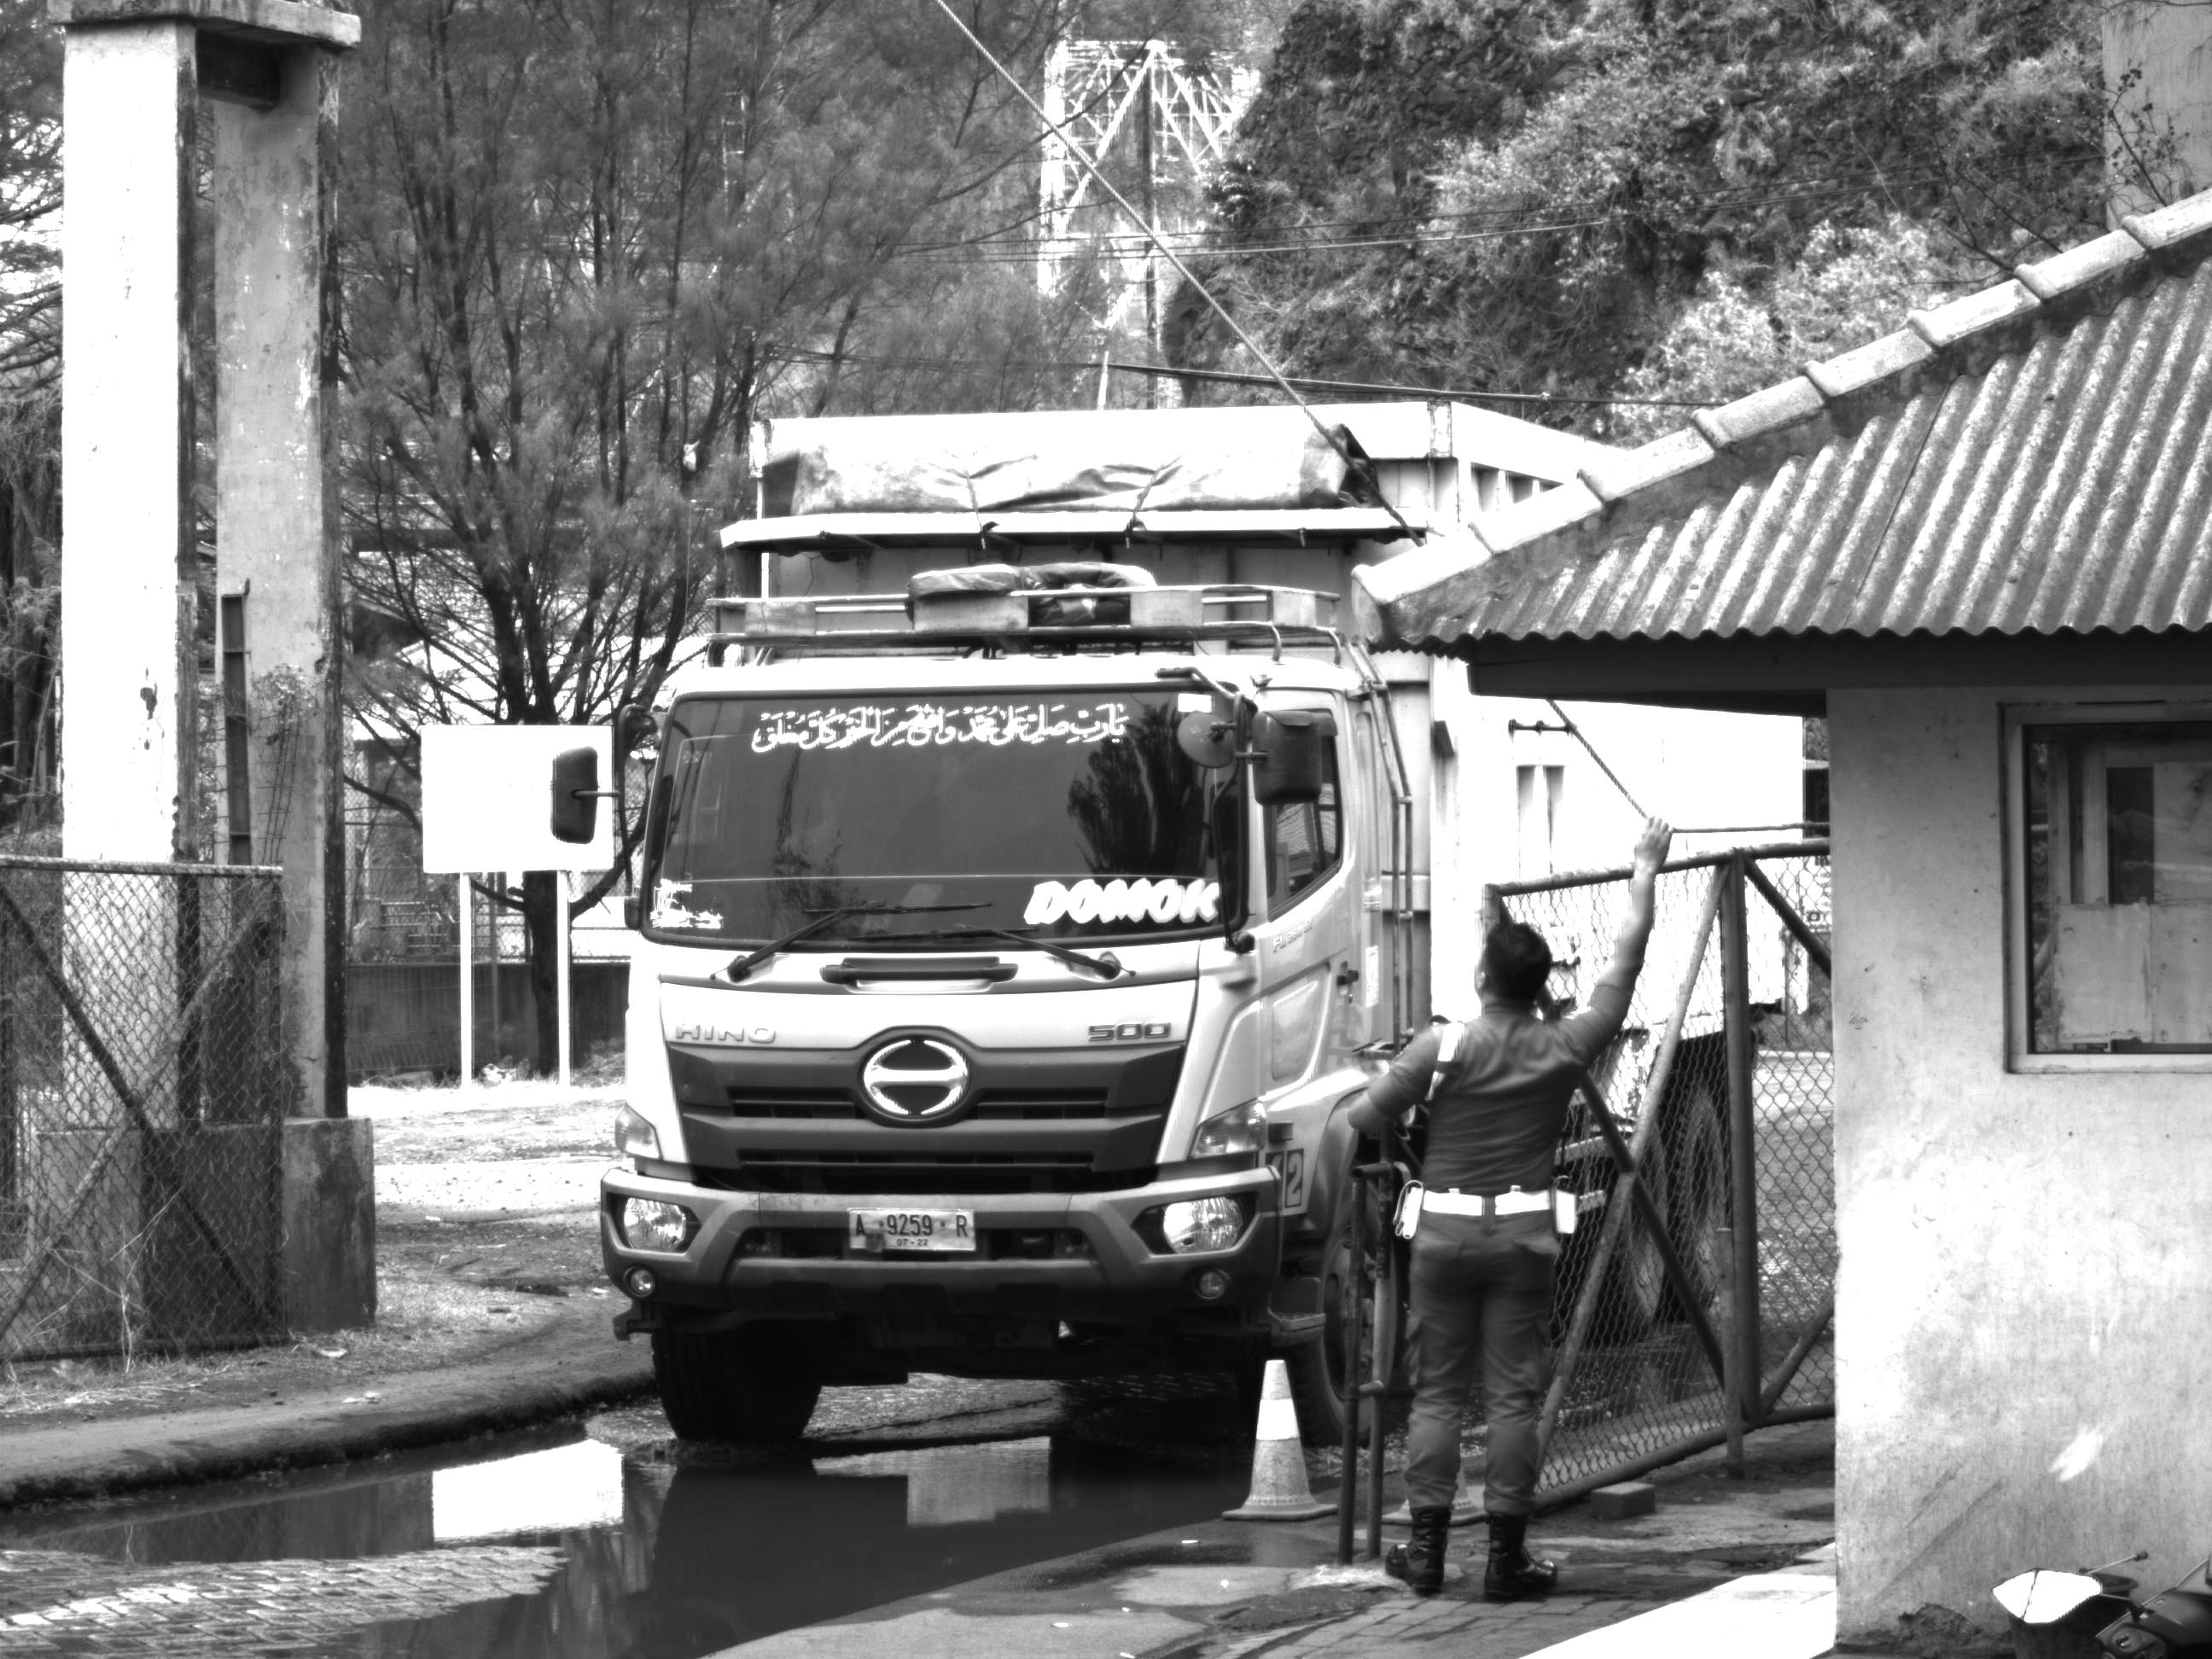day_truck_front: (541, 573, 1405, 1462)
plate: (836, 1202, 983, 1260)
